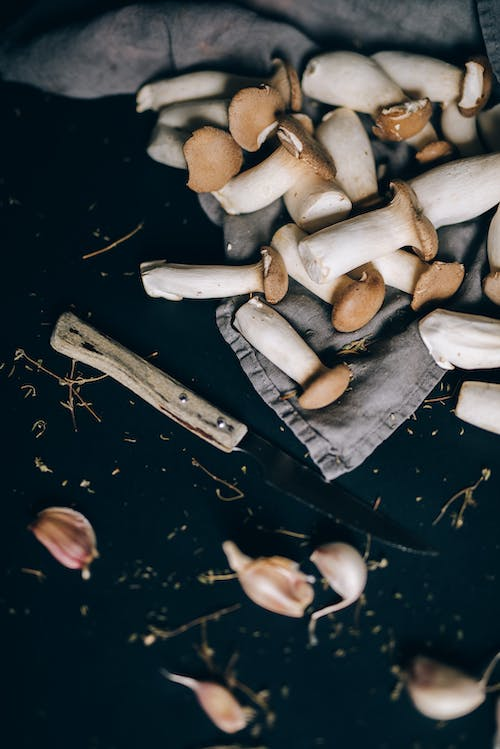knife: (44, 307, 444, 560)
